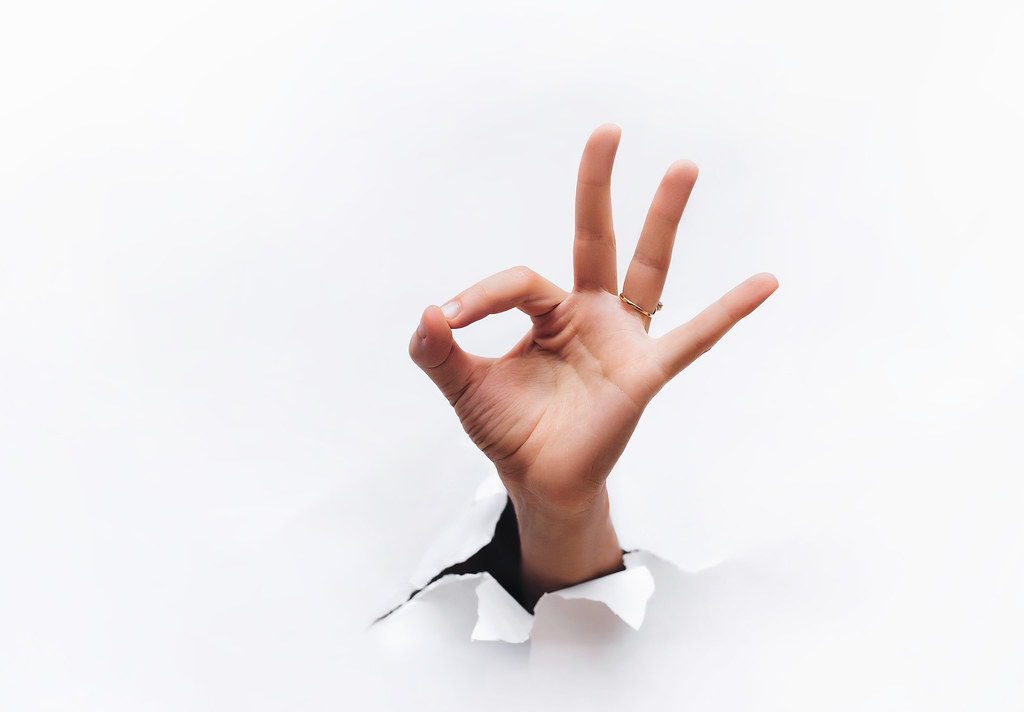oksign: (400, 129, 761, 495)
